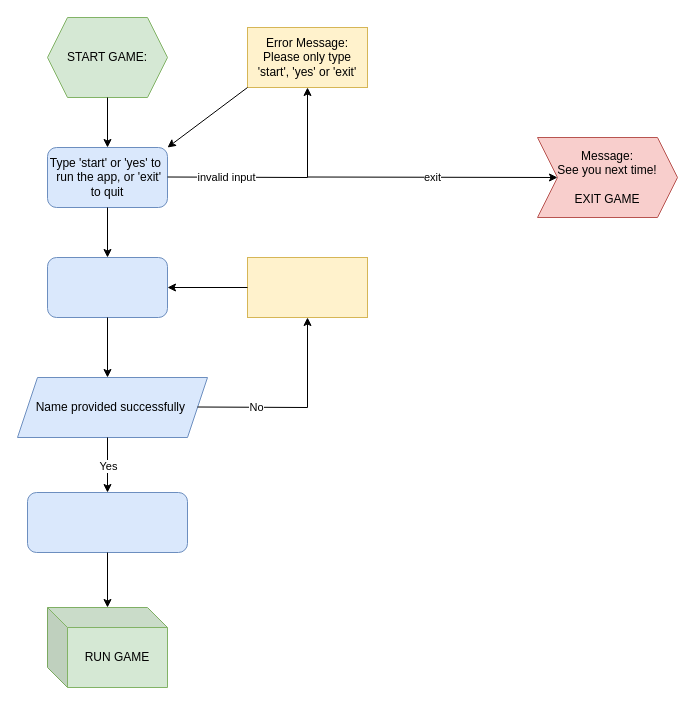
Image size: 695x705. Some labels were removed from this diagram. The shapes that lost their labels are listed below. From the top down, each one's centre as x and y in pixels, then its label:
At point 107,287: "Input player name".
At point 307,287: "Error: Please provide player name!".
At point 107,522: "Display welcome message with player name and game rules".
